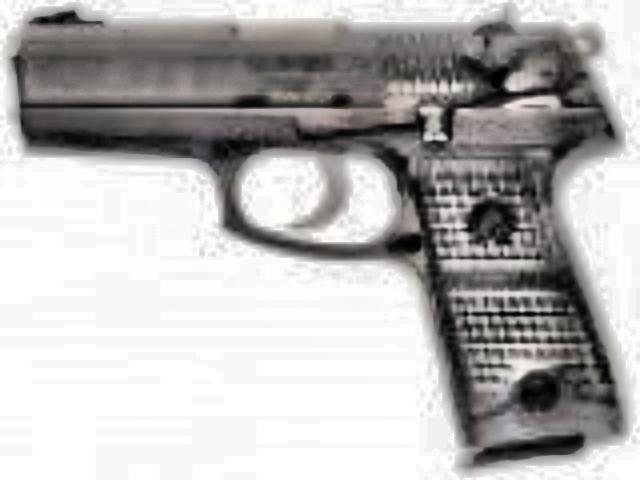pistol: (12, 0, 628, 456)
